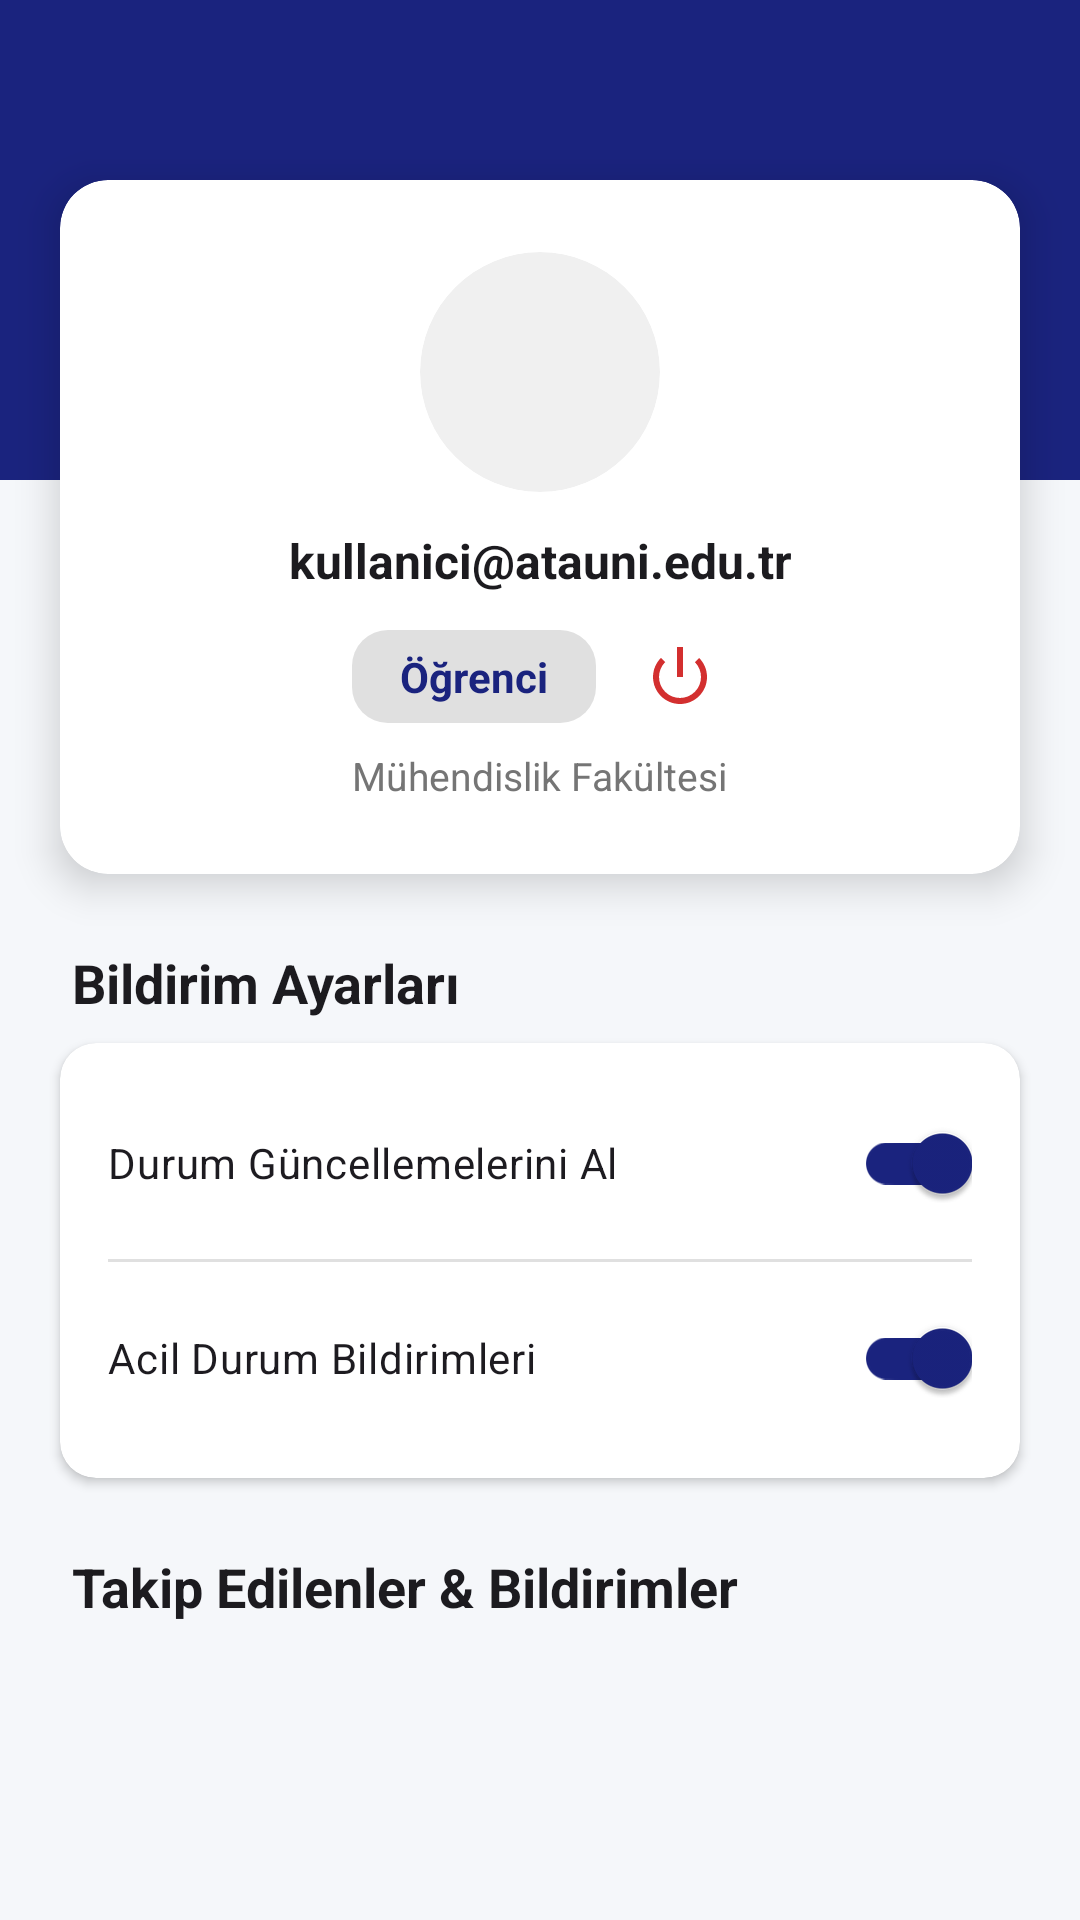

Where to tap for icons on this 1080px×1920px app screen, as [x,y]:
lock power off: [680,675]
